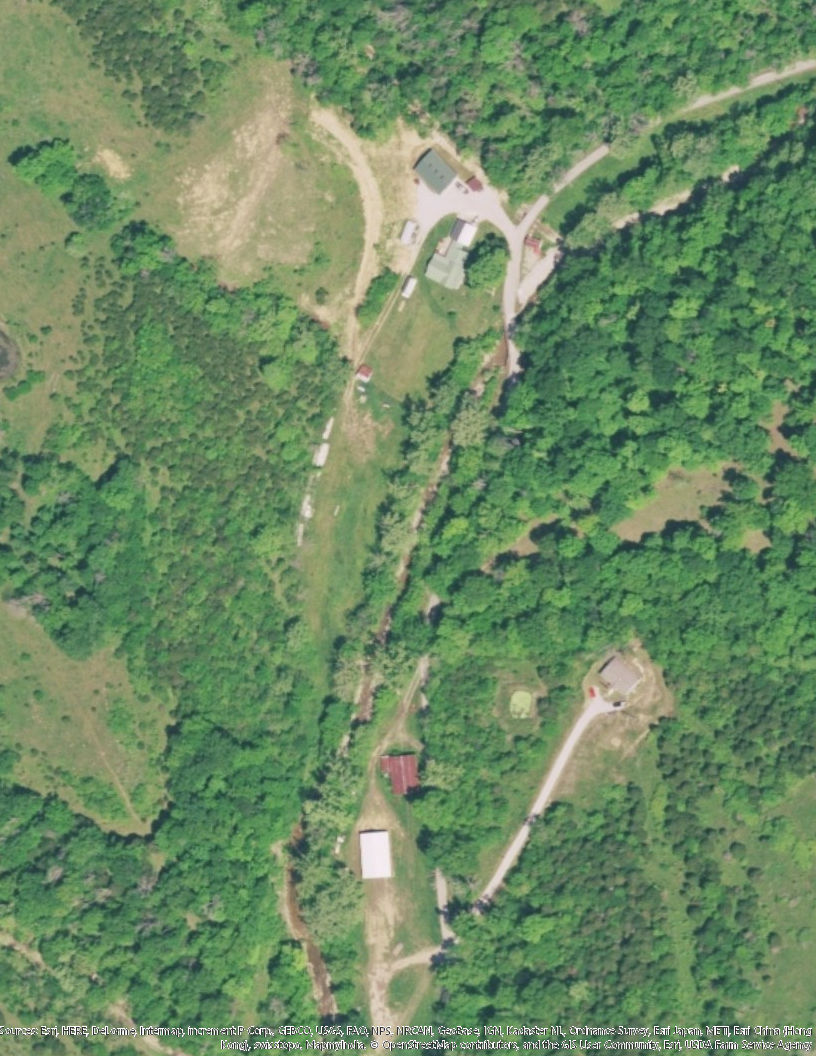cafo: (357, 826, 394, 882)
